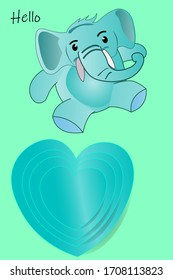elephant: (27, 8, 151, 134)
